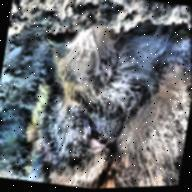boar: (17, 0, 192, 191)
